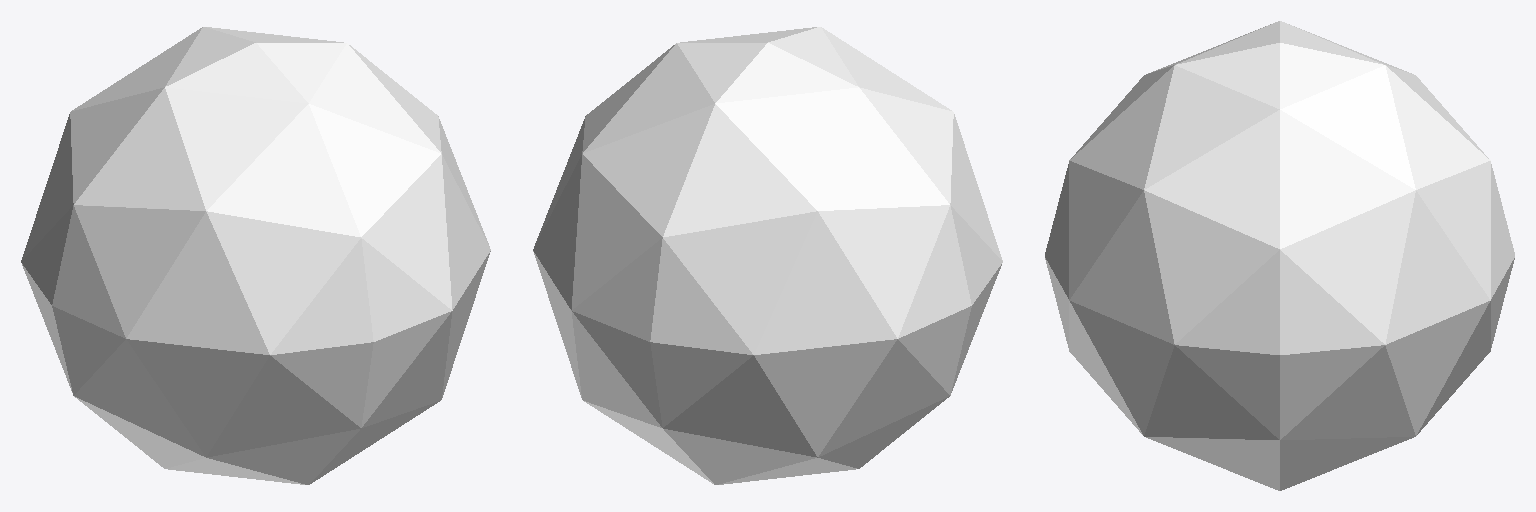
File: ball2.obj
3 views of the same model, side by side, from view 1: azimuth 30°, elevation 25°; view 2: azimuth 150°, elevation 25°; view 3: azimuth 270°, elevation 25° (orthographic).
Visible parts, largest first — view 1: Sphere; view 2: Sphere; view 3: Sphere.
Boxes of the visible parts, <box> form: Sphere: <box>21,27,490,484</box>; Sphere: <box>533,27,1002,484</box>; Sphere: <box>1045,21,1514,490</box>.
Size of the model in its own units: 200 by 200 by 200.